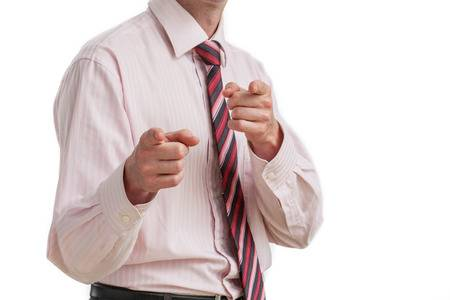F_shirt: (45, 1, 323, 296)
F_tie: (190, 46, 264, 300)
